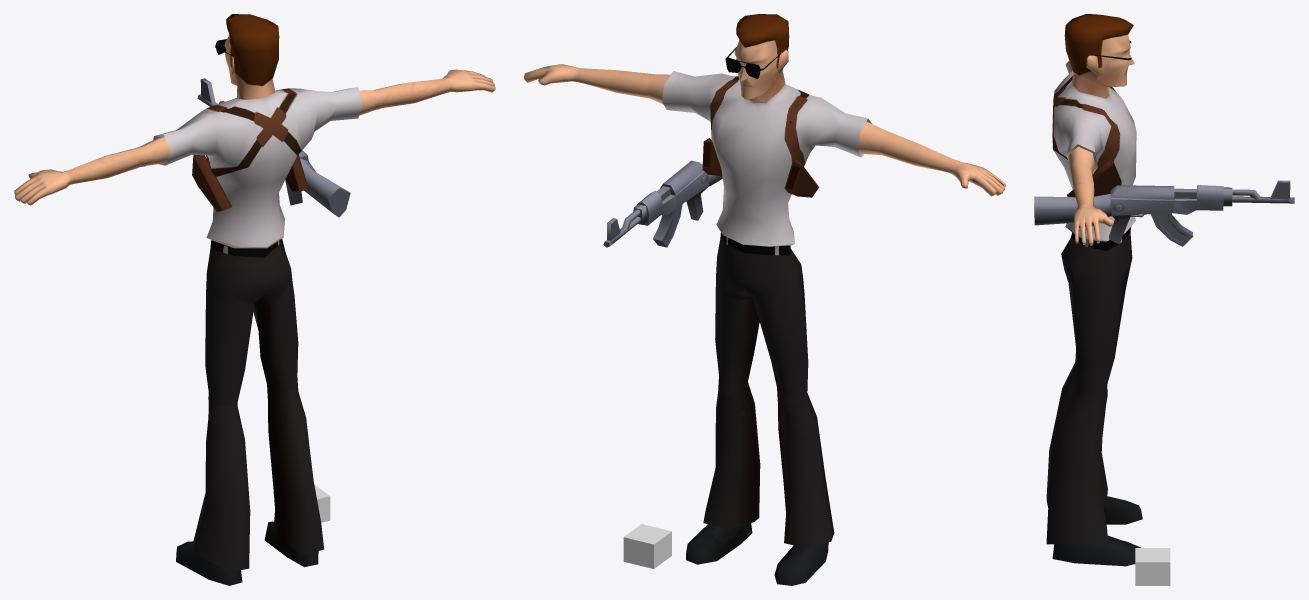
File: Hammer@HammerAK47Fire.FBX
3 views of the same model, side by side, from view 1: azimuth 30°, elevation 25°; view 2: azimuth 150°, elevation 25°; view 3: azimuth 270°, elevation 25° (orthographic). The views are drawn at different scales.
Parts seen in each view (by area): view 1: Hammer, AK47; view 2: Hammer, AK47, Box001; view 3: Hammer, AK47, Box001.
Boxes of the visible parts, x1=… form: Hammer: x1=14, y1=14, x2=495, y2=585; AK47: x1=197, y1=78, x2=350, y2=217; Hammer: x1=524, y1=14, x2=1005, y2=585; AK47: x1=603, y1=160, x2=722, y2=247; Box001: x1=623, y1=524, x2=671, y2=568; Hammer: x1=1046, y1=14, x2=1142, y2=566; AK47: x1=1034, y1=180, x2=1294, y2=246; Box001: x1=1135, y1=548, x2=1170, y2=585.
Bounding box in the file's own units: 1.72 × 1.85 × 0.8432.
